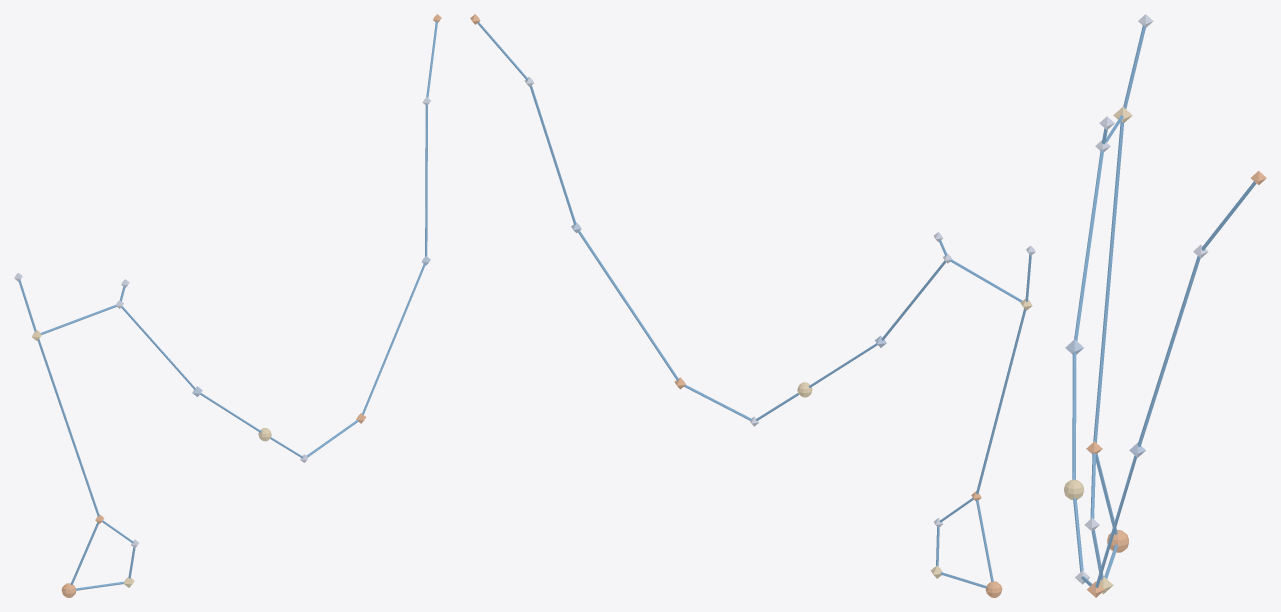
The model's file is constellation-dra.glb.
The picture shows the model from 3 angles, left to right: view 1: azimuth 30°, elevation 25°; view 2: azimuth 150°, elevation 25°; view 3: azimuth 270°, elevation 25°; orthographic projection. The views are drawn at different scales.
Size of the model in its own units: 3.59 by 3.32 by 0.8798.
